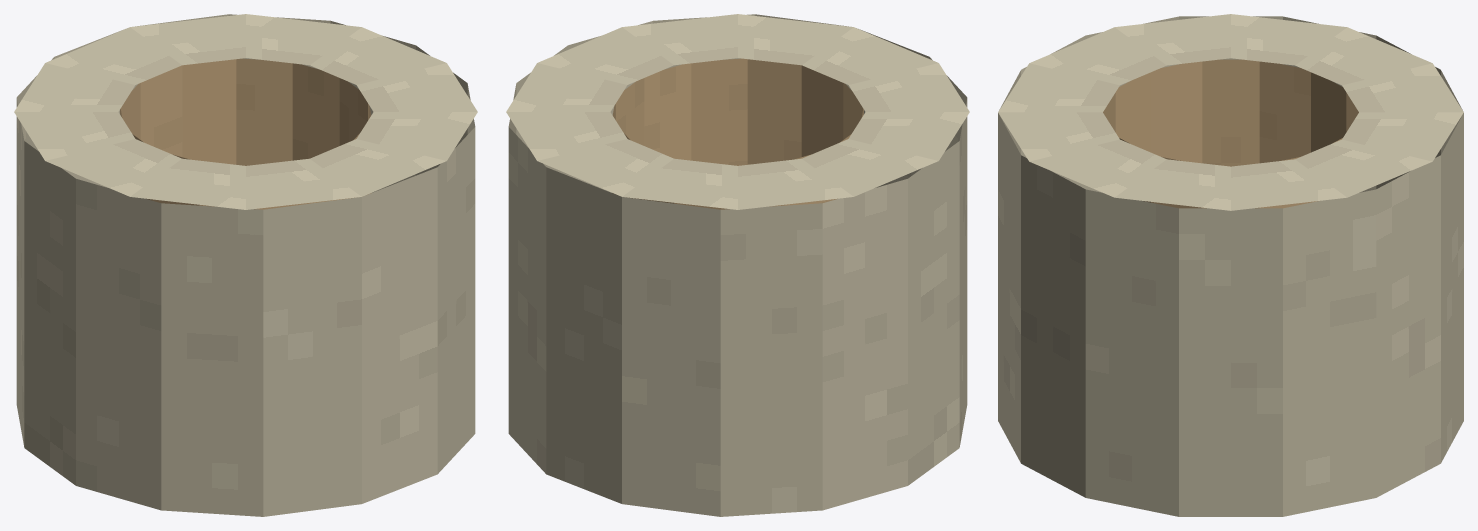
The model's file is medical_tape.glb.
The picture shows the model from 3 angles, left to right: view 1: azimuth 30°, elevation 25°; view 2: azimuth 150°, elevation 25°; view 3: azimuth 270°, elevation 25°; orthographic projection.
Parts seen in each view (by area): view 1: block_rolled exterior, block_card core, block_rolled layers 2, block_rolled layers 5, block_rolled layers 8, block_rolled layers 11, block_rolled layers 9, block_rolled layers 10, block_rolled layers 3, block_rolled layers 4, block_rolled layers 1, block_rolled layers 6 (+2 smaller); view 2: block_rolled exterior, block_card core, block_rolled layers 0, block_rolled layers 3, block_rolled layers 6, block_rolled layers 9, block_rolled layers 1, block_rolled layers 2, block_rolled layers 7, block_rolled layers 8, block_rolled layers 5, block_rolled layers 10 (+2 smaller); view 3: block_rolled exterior, block_card core, block_rolled layers 3, block_rolled layers 8, block_rolled layers 2, block_rolled layers 9, block_rolled layers 1, block_rolled layers 4, block_rolled layers 7, block_rolled layers 10, block_rolled layers 5, block_rolled layers 6 (+2 smaller).
Part boxes in pixels (box(x1,y1,x2,y2)): block_rolled exterior: box(16, 14, 475, 516); block_card core: box(120, 58, 371, 209); block_rolled layers 2: box(310, 139, 446, 196); block_rolled layers 5: box(45, 139, 181, 196); block_rolled layers 8: box(46, 27, 181, 84); block_rolled layers 11: box(310, 27, 445, 84); block_rolled layers 9: box(130, 14, 245, 65); block_rolled layers 10: box(246, 14, 361, 65); block_rolled layers 3: box(246, 158, 361, 209); block_rolled layers 4: box(130, 158, 245, 209); block_rolled layers 1: box(356, 112, 477, 160); block_rolled layers 6: box(14, 112, 135, 160); block_rolled exterior: box(508, 14, 967, 516); block_card core: box(612, 58, 863, 209); block_rolled layers 0: box(538, 27, 673, 84); block_rolled layers 3: box(802, 27, 937, 84); block_rolled layers 6: box(802, 139, 938, 196); block_rolled layers 9: box(537, 139, 673, 196); block_rolled layers 1: box(622, 14, 737, 65); block_rolled layers 2: box(738, 14, 853, 65); block_rolled layers 7: box(738, 158, 853, 209); block_rolled layers 8: box(622, 158, 737, 209); block_rolled layers 5: box(848, 112, 969, 160); block_rolled layers 10: box(506, 112, 627, 160); block_rolled exterior: box(998, 16, 1463, 516); block_card core: box(1103, 59, 1358, 208); block_rolled layers 3: box(998, 63, 1119, 112); block_rolled layers 8: box(1342, 63, 1463, 112); block_rolled layers 2: box(998, 112, 1119, 161); block_rolled layers 9: box(1342, 112, 1463, 161); block_rolled layers 1: box(1030, 139, 1166, 197); block_rolled layers 4: box(1029, 27, 1166, 85); block_rolled layers 7: box(1295, 27, 1432, 85); block_rolled layers 10: box(1295, 139, 1431, 197); block_rolled layers 5: box(1115, 14, 1230, 65); block_rolled layers 6: box(1231, 14, 1346, 65).
Size of the model in its own units: 0.2 by 0.1462 by 0.2.
2 materials, 2 textured.
